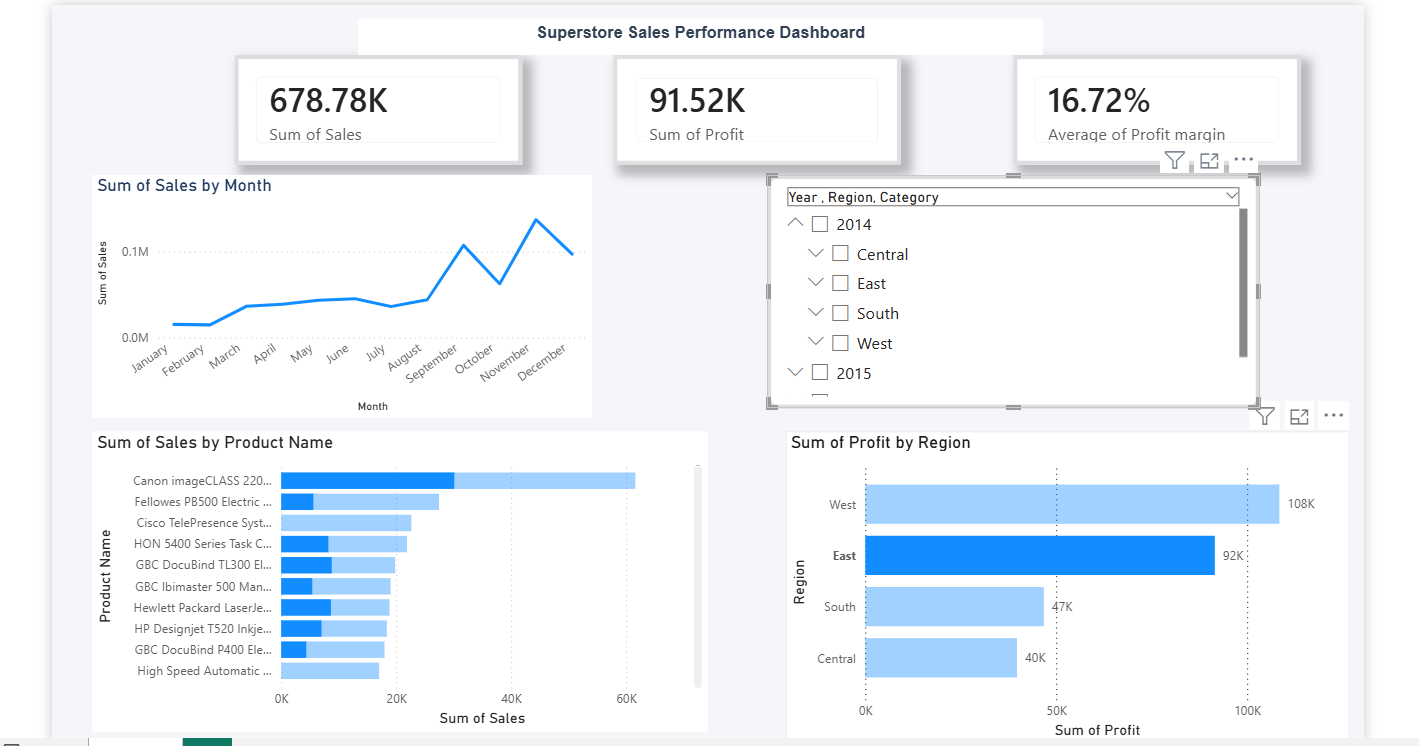

This screenshot's page, from the dashboard's own definition file:
{"tool":"powerbi","page":{"name":"Page 1","canvas":[1280,720],"ordinal":0},"visuals":[{"type":"cardVisual","fields":{"Data":["Sum(Table1.Sales)"]},"box":[178,48.8,280.5,107.3],"z":0},{"type":"cardVisual","fields":{"Data":["Sum(Table1.Profit)"]},"box":[547.6,48.8,280.5,107.3],"z":1000},{"type":"cardVisual","fields":{"Data":["Avg(Table1.Profit margin)"]},"box":[937.8,48.8,280.5,107.3],"z":2000},{"type":"lineChart","fields":{"Category":["Table1.Month"],"Y":["Sum(Table1.Sales)"]},"box":[39,165.9,487.8,236.6],"z":3000},{"type":"clusteredBarChart","fields":{"Category":["Table1.Product Name"],"Y":["Sum(Table1.Sales)"]},"box":[39.1,415.8,600.4,293.5],"z":4000},{"type":"clusteredBarChart","fields":{"Category":["Table1.Region"],"Y":["Sum(Table1.Profit)"]},"box":[715.9,415.9,550,304.9],"z":5000},{"type":"slicer","fields":{"Values":["Table1.Year ","Table1.Region","Table1.Category"]},"box":[697.6,165.9,480.5,228],"z":6000},{"type":"textbox","box":[298.8,13.4,668.3,35.4],"z":7000}]}

Visuals, with their boxes on the page's 1280x720 design canvas (x1, y1, x2, y2). These are canvas units, not pixel positions in the 1419x746 screenshot, which may show the page scaled, cropped or inside an application window:
cardVisual - Sum(Table1.Sales): x1=178, y1=49, x2=458, y2=156
cardVisual - Sum(Table1.Profit): x1=548, y1=49, x2=828, y2=156
cardVisual - Avg(Table1.Profit margin): x1=938, y1=49, x2=1218, y2=156
lineChart - Table1.Month x Sum(Table1.Sales): x1=39, y1=166, x2=527, y2=402
clusteredBarChart - Table1.Product Name x Sum(Table1.Sales): x1=39, y1=416, x2=640, y2=709
clusteredBarChart - Table1.Region x Sum(Table1.Profit): x1=716, y1=416, x2=1266, y2=721
slicer - Table1.Year  x Table1.Region: x1=698, y1=166, x2=1178, y2=394
textbox: x1=299, y1=13, x2=967, y2=49
